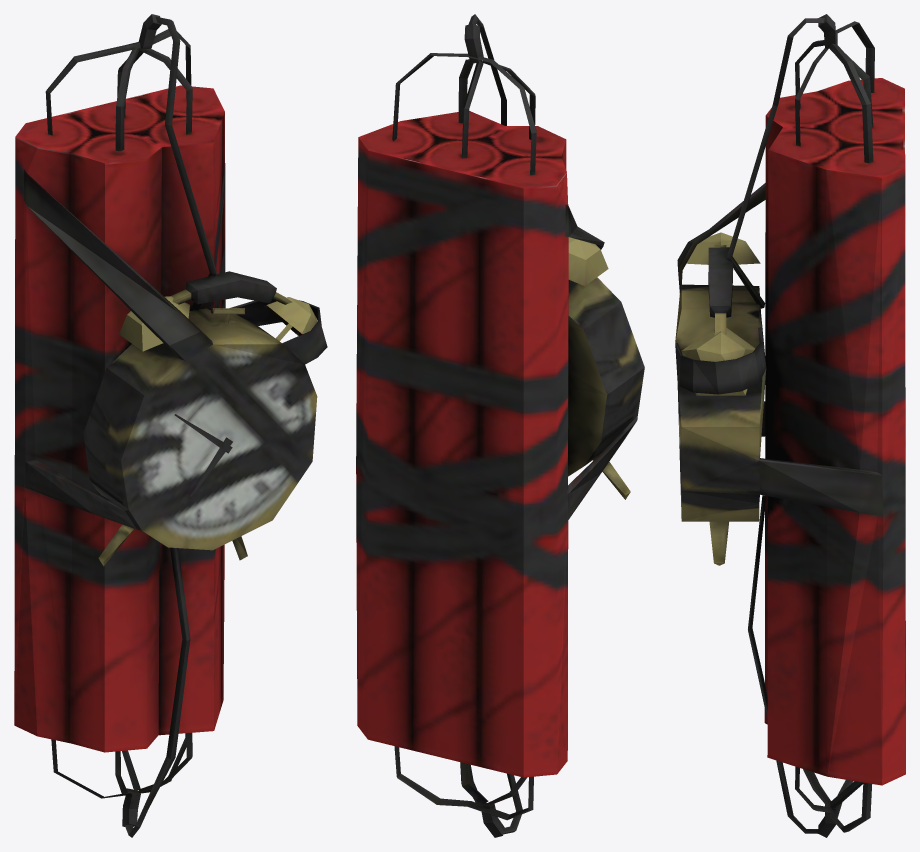
File: INJ-GAU_iOS_WEAPON_Harley_Quinn's_Bomb_Injustice.obj
3 views of the same model, side by side, from view 1: azimuth 30°, elevation 25°; view 2: azimuth 150°, elevation 25°; view 3: azimuth 270°, elevation 25° (orthographic). The views are drawn at different scales.
Bounding box in the file's own units: 0.1101 × 0.3711 × 0.0938.
1 material, 1 textured.
